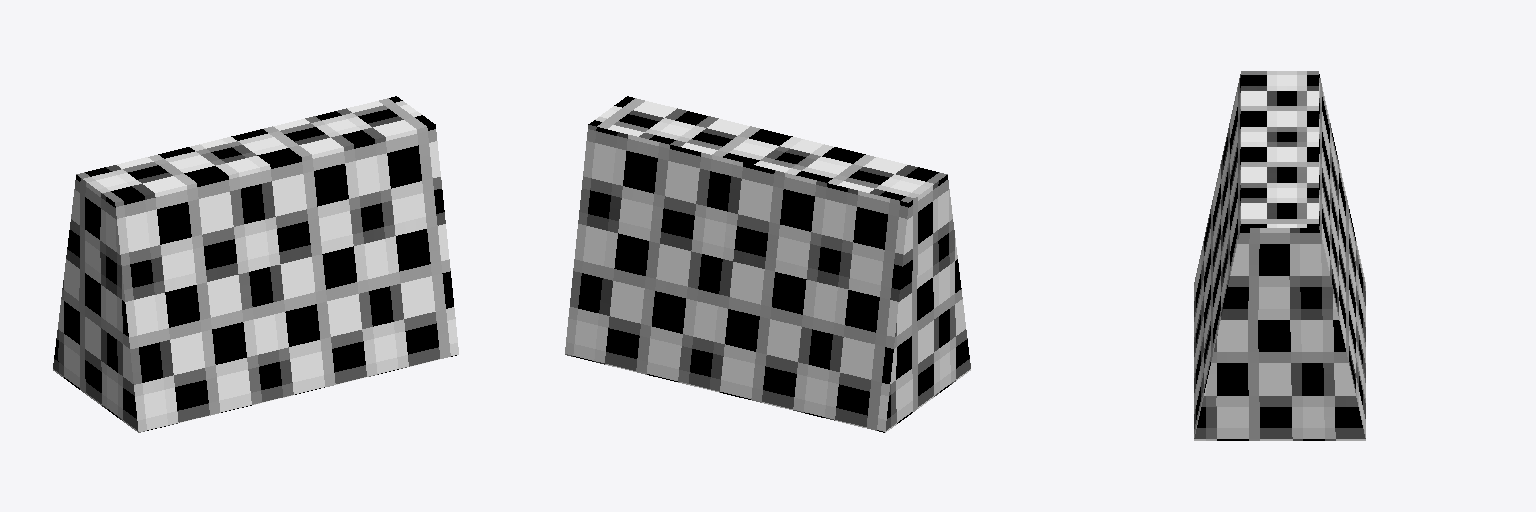
3 views of the same model, side by side, from view 1: azimuth 30°, elevation 25°; view 2: azimuth 150°, elevation 25°; view 3: azimuth 270°, elevation 25° (orthographic).
Parts seen in each view (by area): view 1: Separador_02; view 2: Separador_02; view 3: Separador_02.
Boxes of the visible parts, x1,y1,x2,y2 form: Separador_02: [53, 96, 458, 432]; Separador_02: [565, 96, 970, 432]; Separador_02: [1194, 71, 1365, 440].
Size of the model in its own units: 27.96 by 17.74 by 13.
Materials: 1 (1 with a texture image).